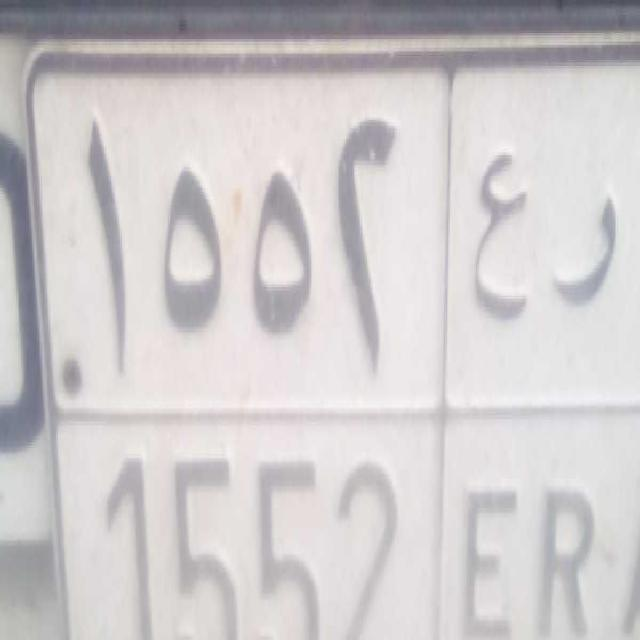license_plate: (53, 407, 640, 640)
